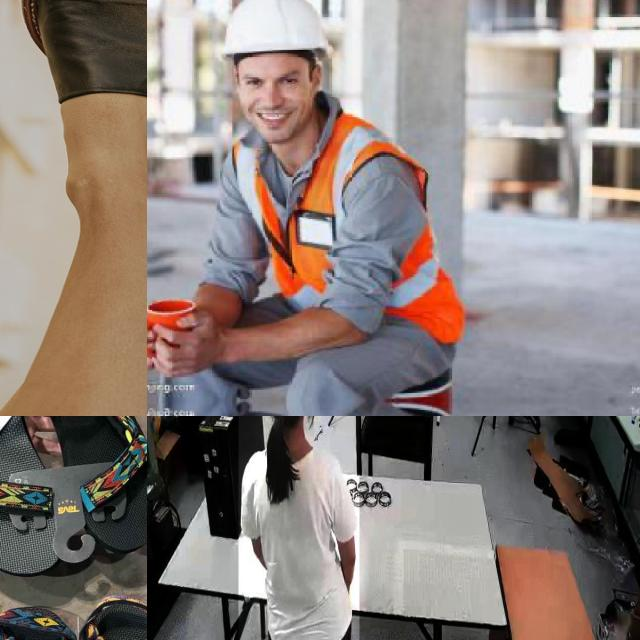No_Ear-Protection: (310, 62, 323, 99)
No_Glasses: (237, 66, 305, 92)
Sandals: (0, 416, 147, 590), (19, 0, 147, 159)
hand_noglove: (147, 284, 368, 375)
head_helmet: (224, 0, 328, 55)
person: (238, 416, 359, 640)
